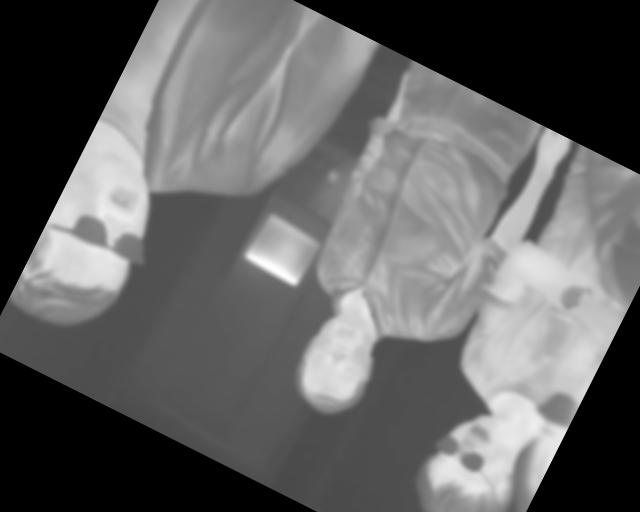face: (5, 139, 178, 350), (399, 397, 538, 512), (280, 301, 394, 427)
